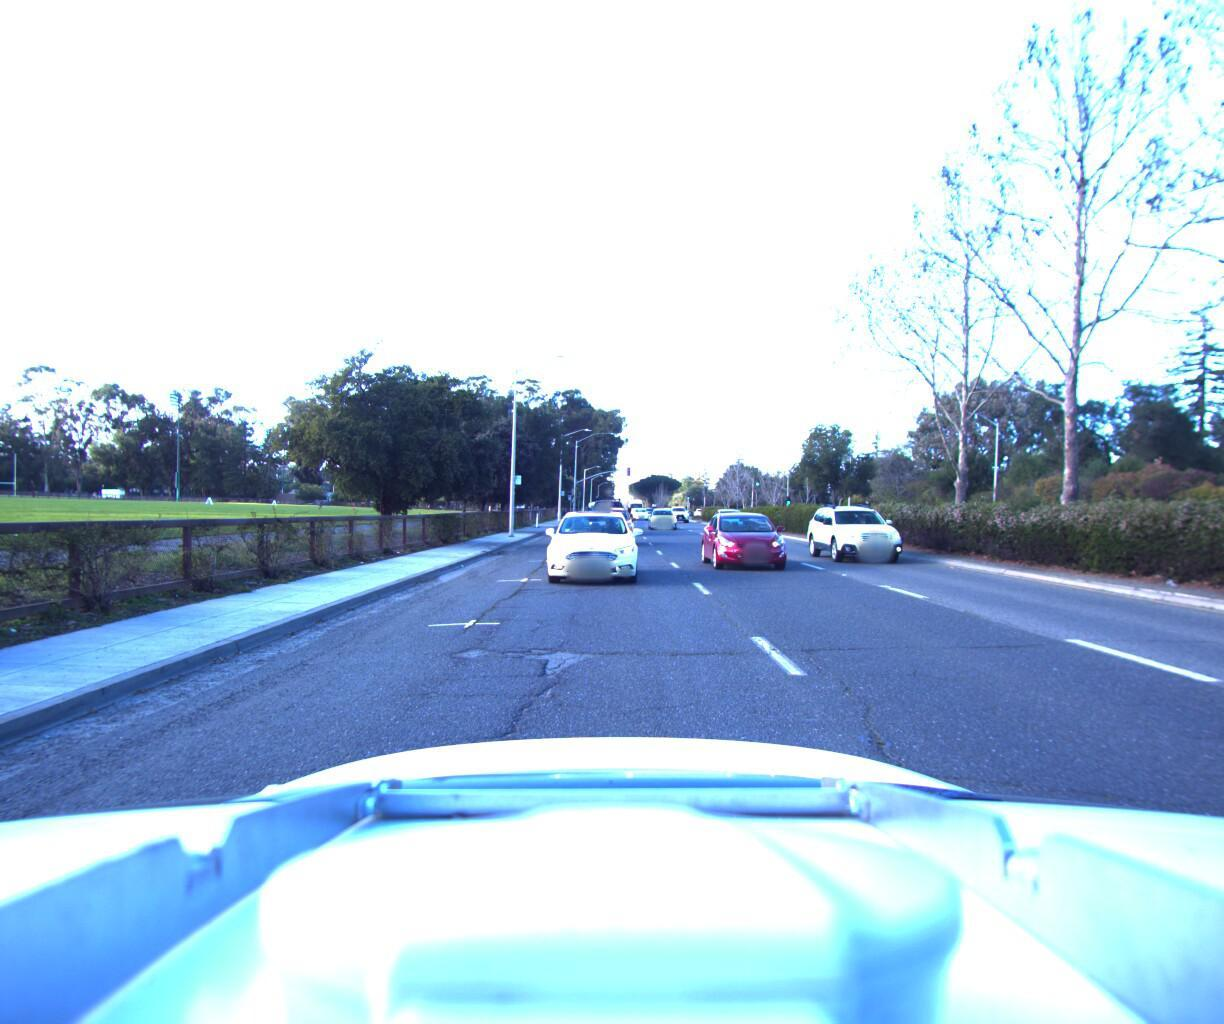car: (539, 504, 639, 586), (814, 497, 928, 568), (703, 506, 806, 577), (589, 502, 635, 544), (592, 486, 628, 530), (650, 502, 680, 526), (667, 500, 691, 519)
